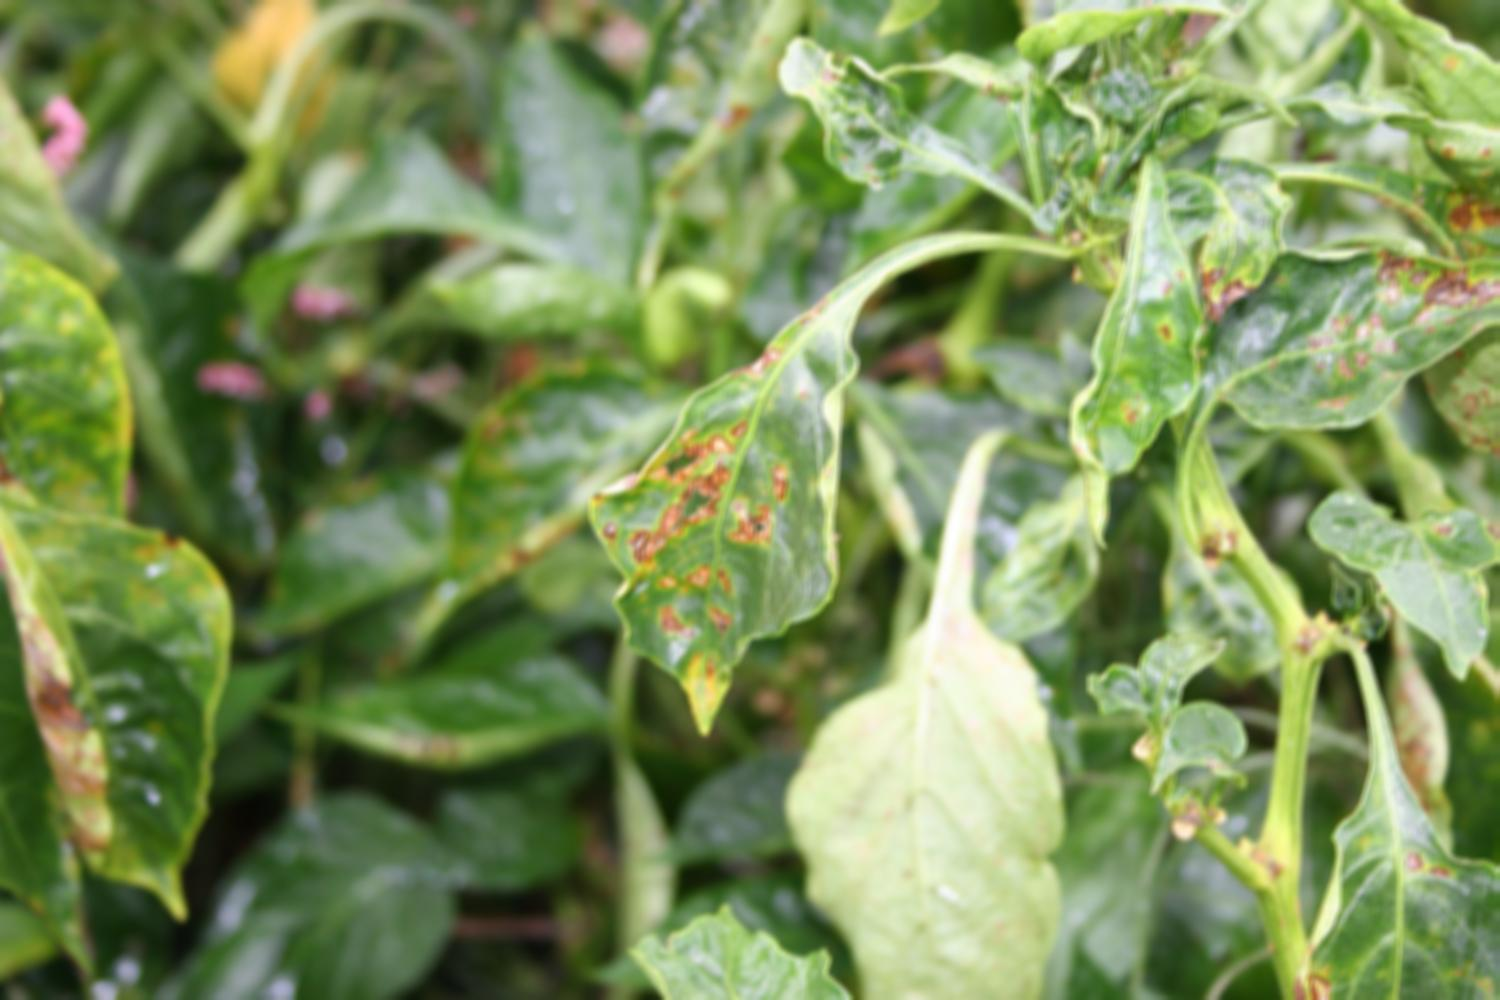Tomato leaf bacterial spot: (569, 267, 912, 740), (13, 475, 253, 936), (1229, 204, 1483, 433), (1041, 180, 1221, 489)
